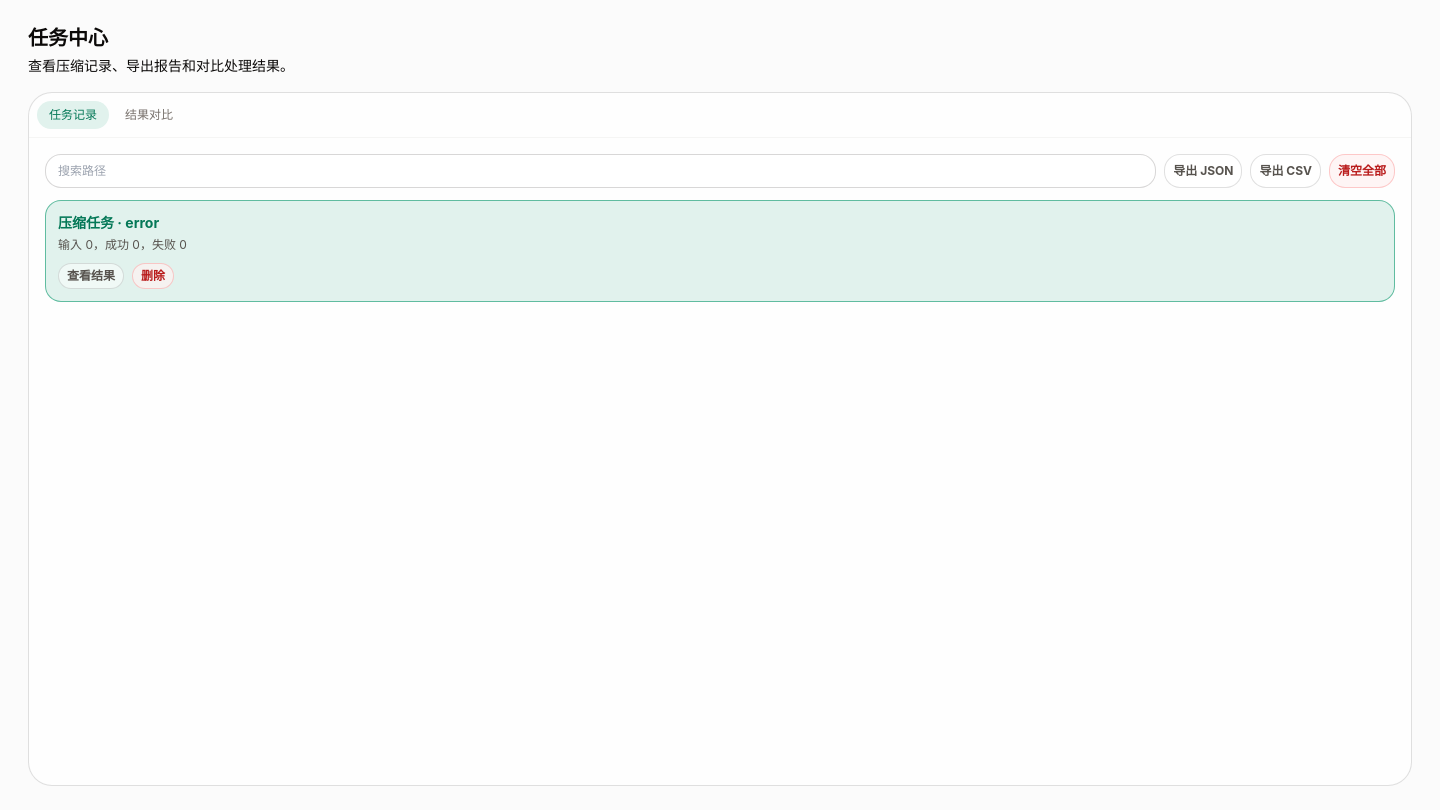
Test case: TaskCenter › exports the selected record and reports success
Click the button "导出 JSON" at (1203, 171), box top-left (1164, 154), bottom-right (1242, 188)
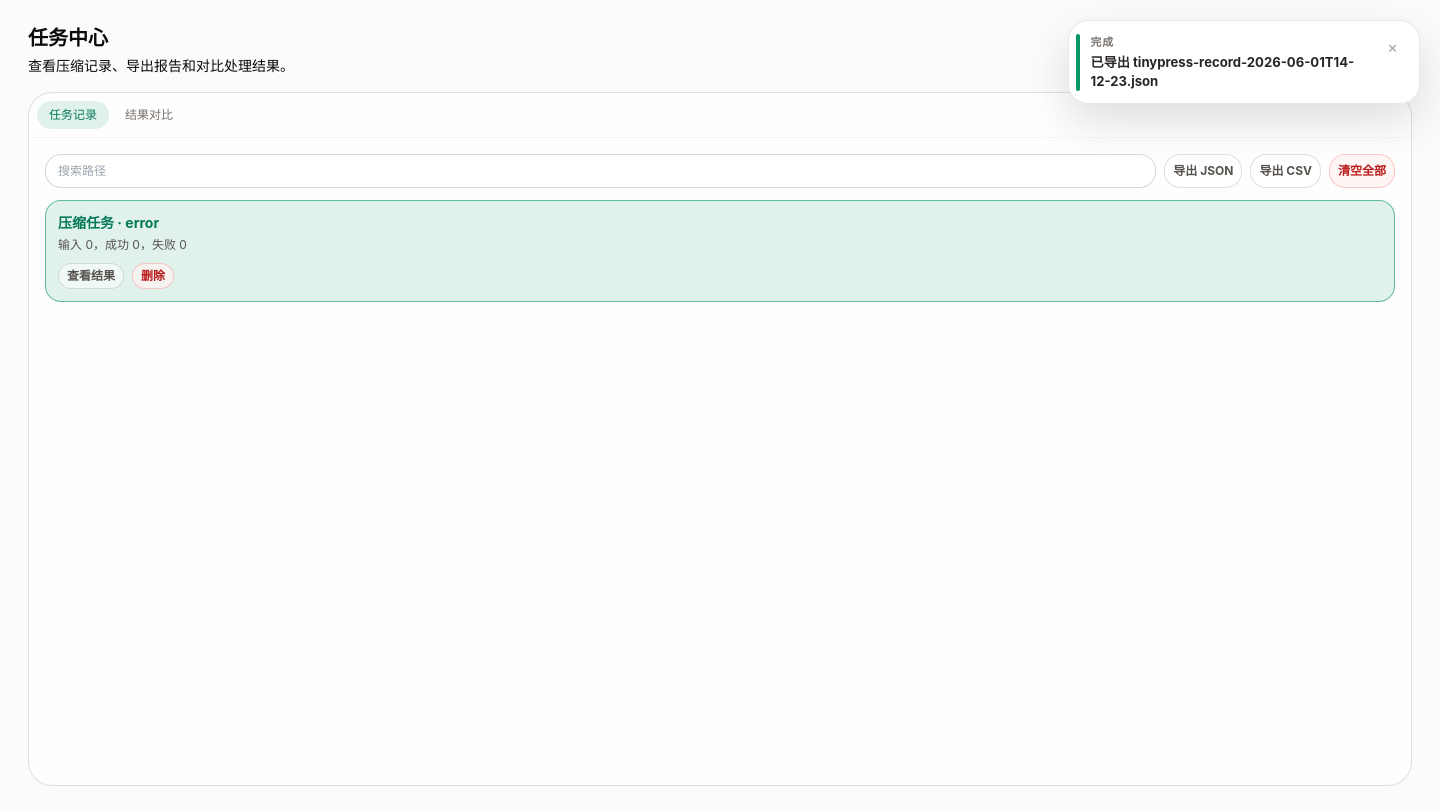
Check: the text "已导出 tinypress-record-2026-06-01T14-12-23.json" is shown, box top-left (1091, 52), bottom-right (1369, 91)
